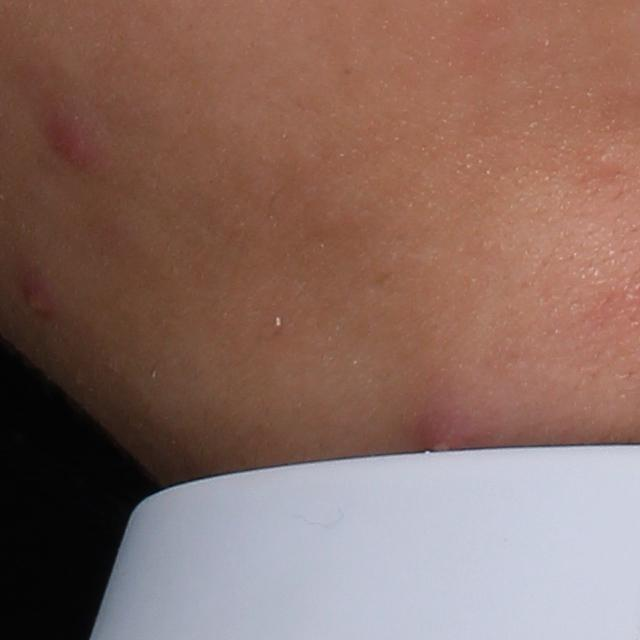papule: (41, 108, 95, 174), (19, 266, 58, 324)
